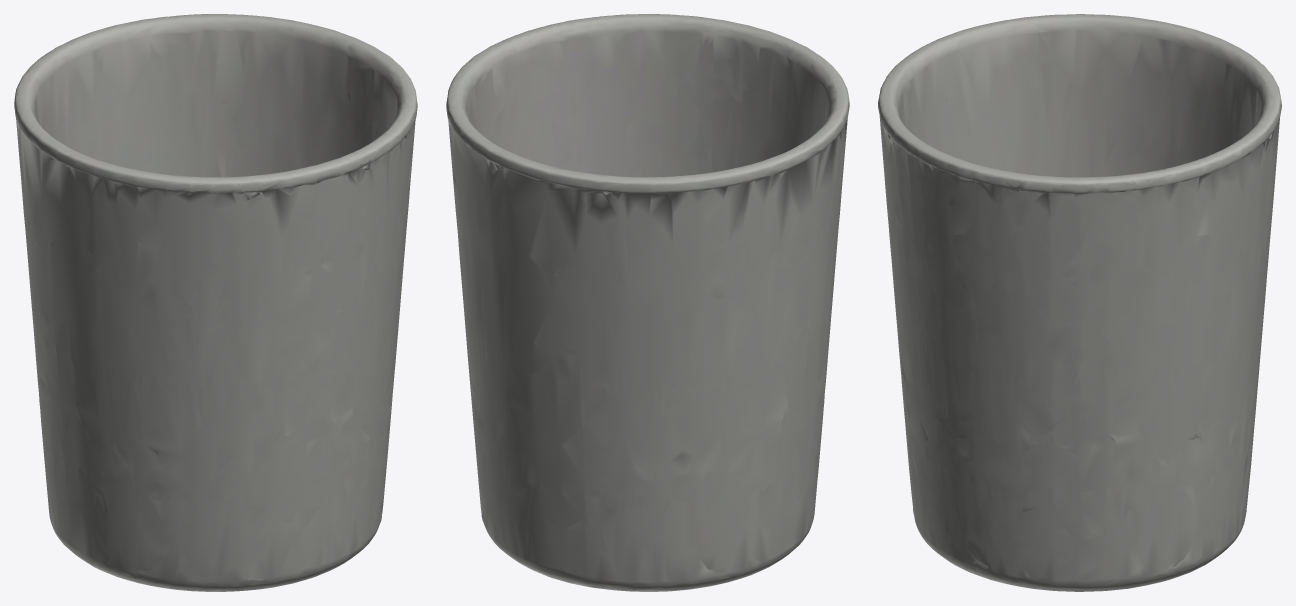
The model's file is veladora.glb.
3 renders of one model, left to right at view 1: azimuth 30°, elevation 25°; view 2: azimuth 150°, elevation 25°; view 3: azimuth 270°, elevation 25°, orthographic.
Visible parts, largest first — view 1: tripo_node_861274c9-a7c1-4c0d-a70d-6865c3582b8f; view 2: tripo_node_861274c9-a7c1-4c0d-a70d-6865c3582b8f; view 3: tripo_node_861274c9-a7c1-4c0d-a70d-6865c3582b8f.
Part boxes in pixels (x1=…): tripo_node_861274c9-a7c1-4c0d-a70d-6865c3582b8f: x1=14, y1=14, x2=417, y2=591; tripo_node_861274c9-a7c1-4c0d-a70d-6865c3582b8f: x1=446, y1=14, x2=849, y2=591; tripo_node_861274c9-a7c1-4c0d-a70d-6865c3582b8f: x1=878, y1=14, x2=1281, y2=591.
Bounding box in the file's own units: 0.8518 × 1 × 0.8519.
1 material, 1 textured.
